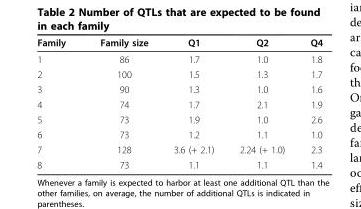table: (36, 36, 322, 169)
table column: (82, 36, 160, 169), (226, 36, 296, 169), (160, 36, 226, 169), (36, 36, 82, 169), (296, 36, 322, 169)
table column header: (36, 36, 322, 50)
table row: (36, 50, 322, 66), (36, 66, 322, 81), (36, 81, 322, 96), (36, 96, 322, 111), (36, 111, 322, 126), (36, 126, 322, 141), (36, 141, 322, 156), (36, 36, 322, 50), (36, 156, 322, 169)
